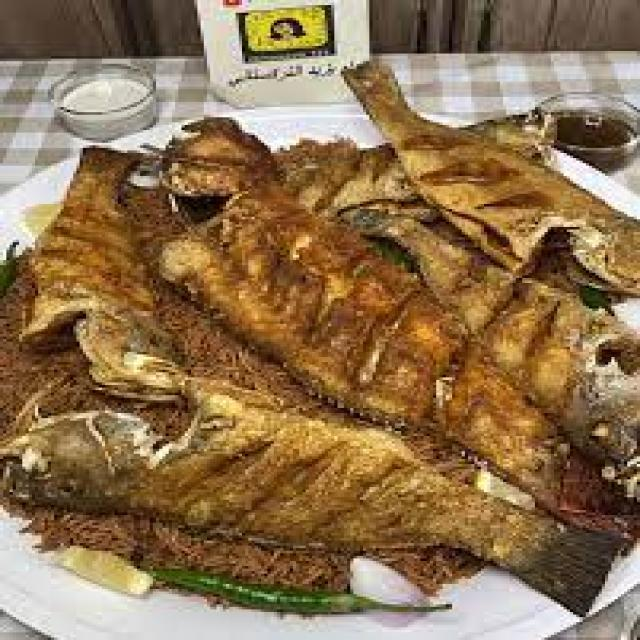Peixe: (0, 61, 637, 615), (182, 0, 372, 107)
